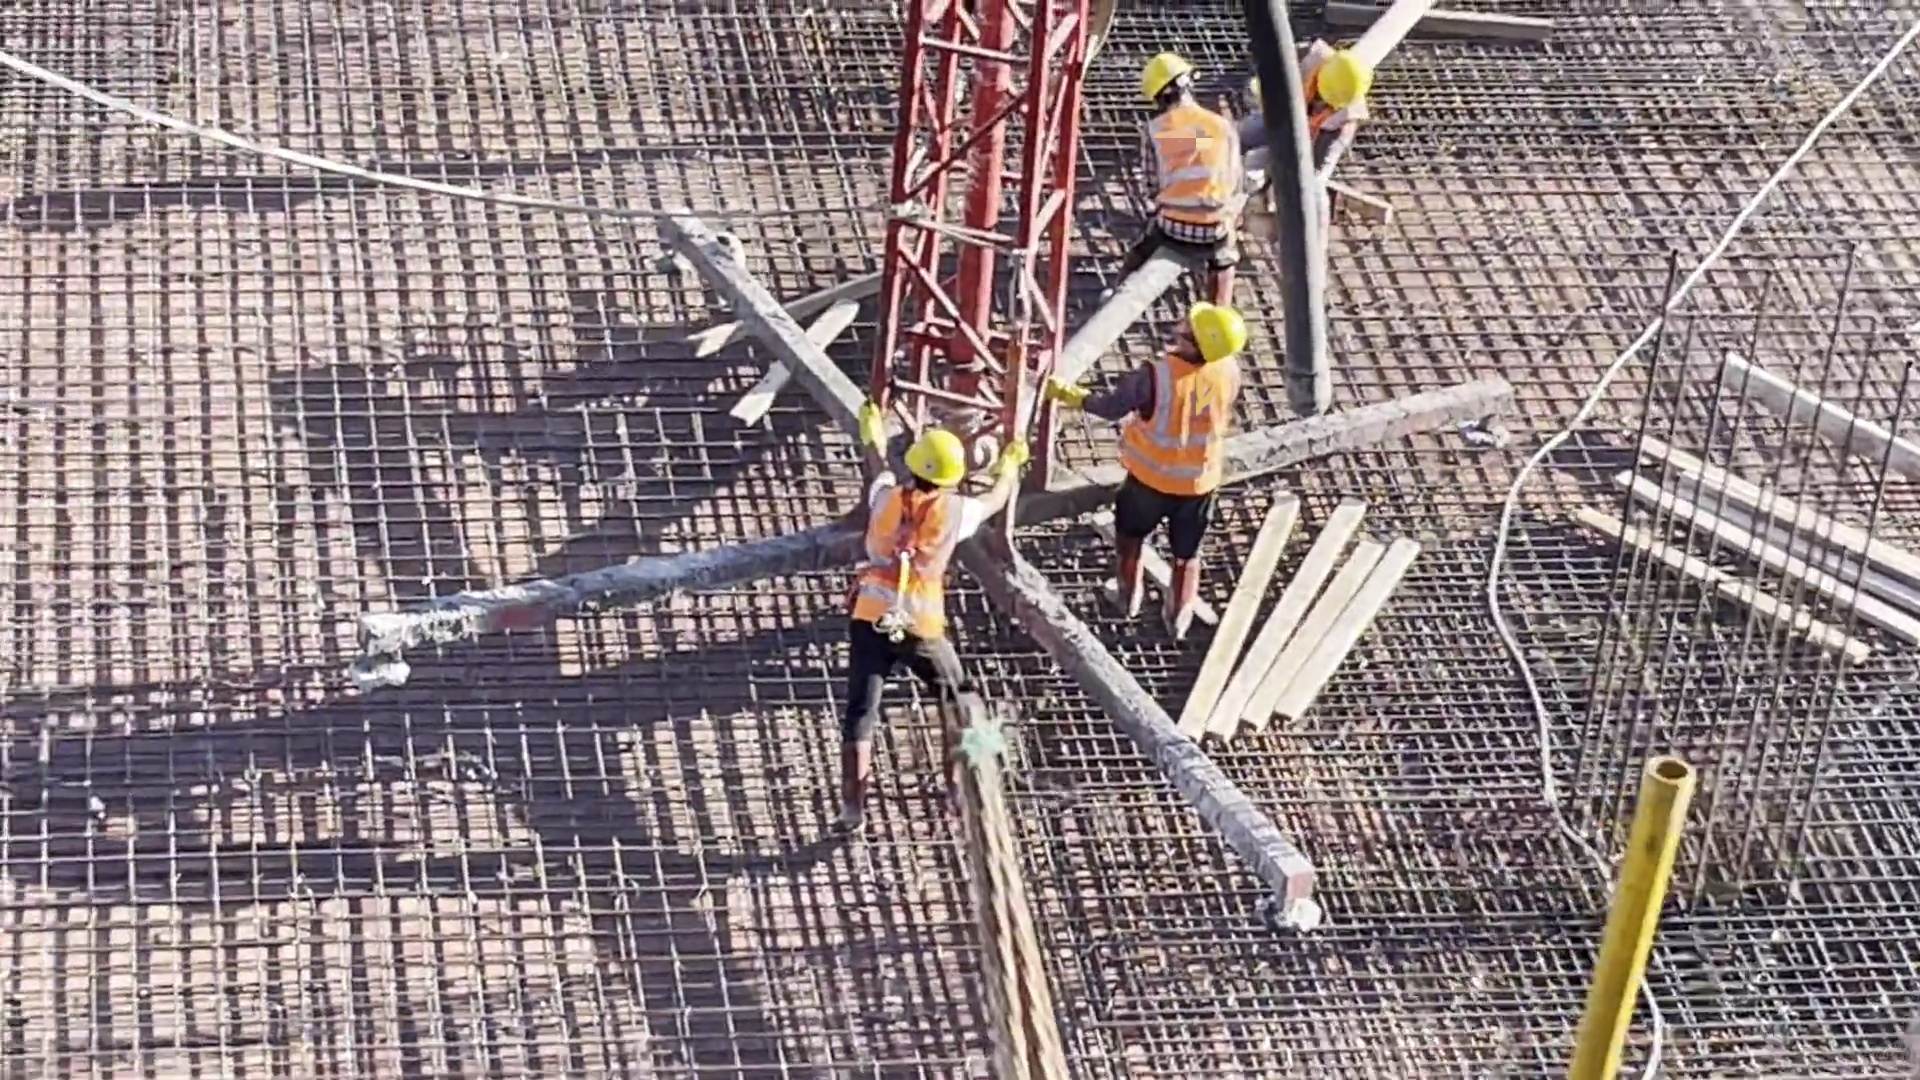helmet: (1185, 306, 1254, 358), (897, 436, 959, 488), (1317, 61, 1364, 112), (1132, 59, 1189, 92)
person: (823, 402, 1000, 806), (1047, 288, 1249, 632), (1128, 42, 1249, 328), (1232, 33, 1366, 189)
vest: (859, 487, 955, 646), (1128, 361, 1227, 503), (1149, 111, 1236, 228), (1304, 43, 1349, 131)
